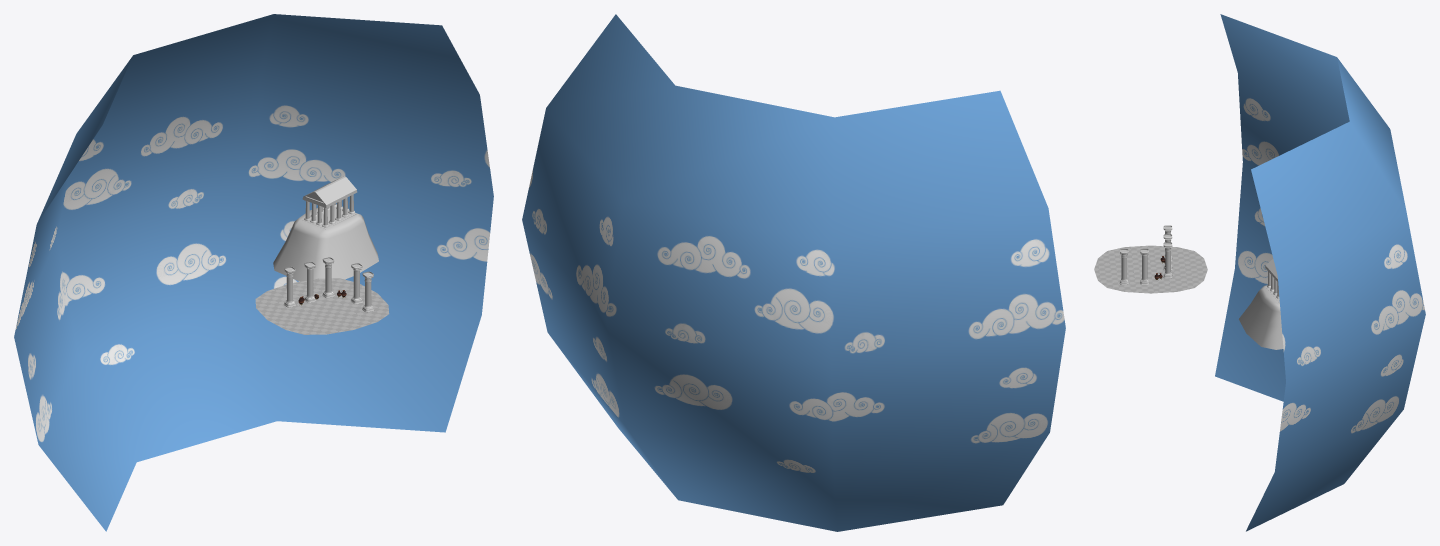
File: Pantheon_Level.fbx
3 renders of one model, left to right at view 1: azimuth 30°, elevation 25°; view 2: azimuth 150°, elevation 25°; view 3: azimuth 270°, elevation 25°, orthographic. The views are drawn at different scales.
Parts seen in each view (by area): view 1: Clouds_View, Pantheon_View, Floor; view 2: Clouds_View; view 3: Clouds_View, Floor, Pantheon_View.
Part boxes in pixels (x1,y1,x2,y2): Clouds_View: [14, 14, 493, 531]; Pantheon_View: [273, 176, 378, 281]; Floor: [255, 278, 389, 334]; Clouds_View: [522, 14, 1065, 531]; Clouds_View: [1215, 14, 1425, 531]; Floor: [1094, 245, 1207, 293]; Pantheon_View: [1239, 259, 1283, 349].
Size of the model in its own units: 9587 by 7390 by 6111.
